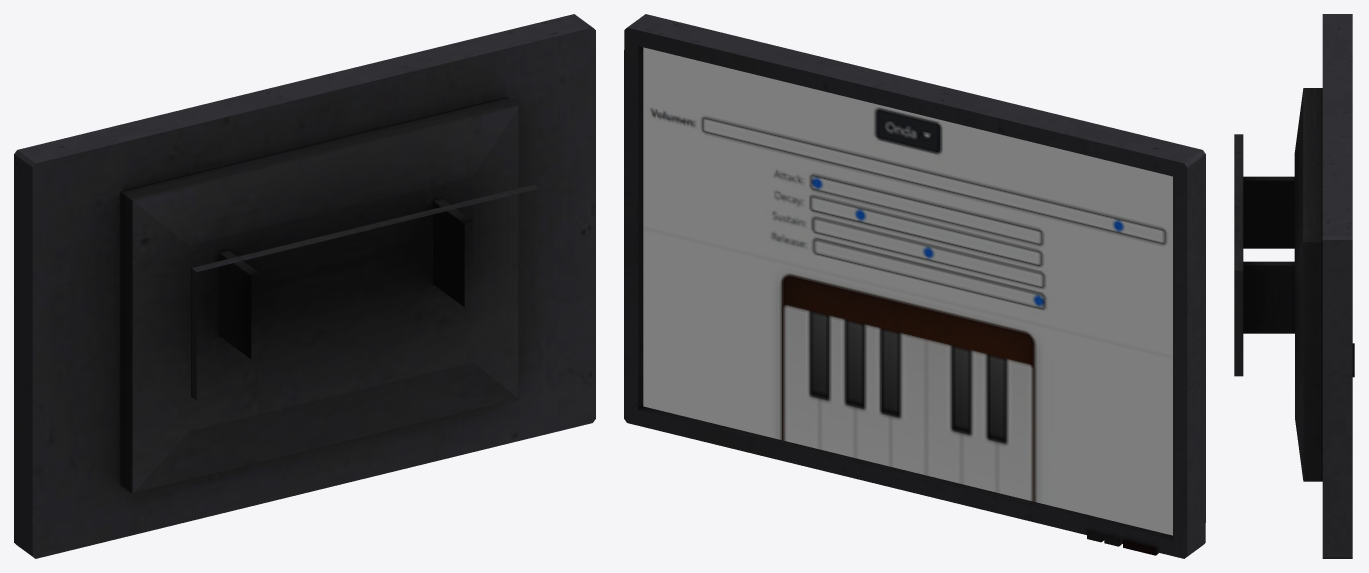
3 views of the same model, side by side, from view 1: azimuth 30°, elevation 25°; view 2: azimuth 150°, elevation 25°; view 3: azimuth 270°, elevation 25° (orthographic). The views are drawn at different scales.
Size of the model in its own units: 3.97 by 2.68 by 0.9025.
1 material, 1 textured.
